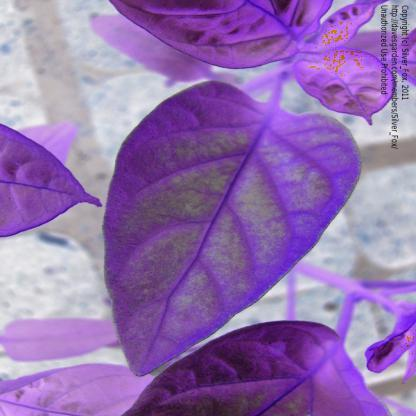Bell_pepper leaf spot: (108, 39, 415, 230)
